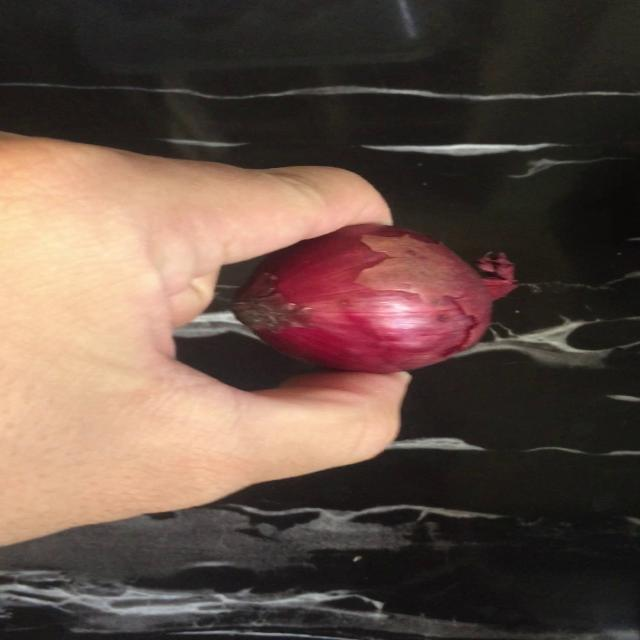Onion: (231, 224, 516, 373)
